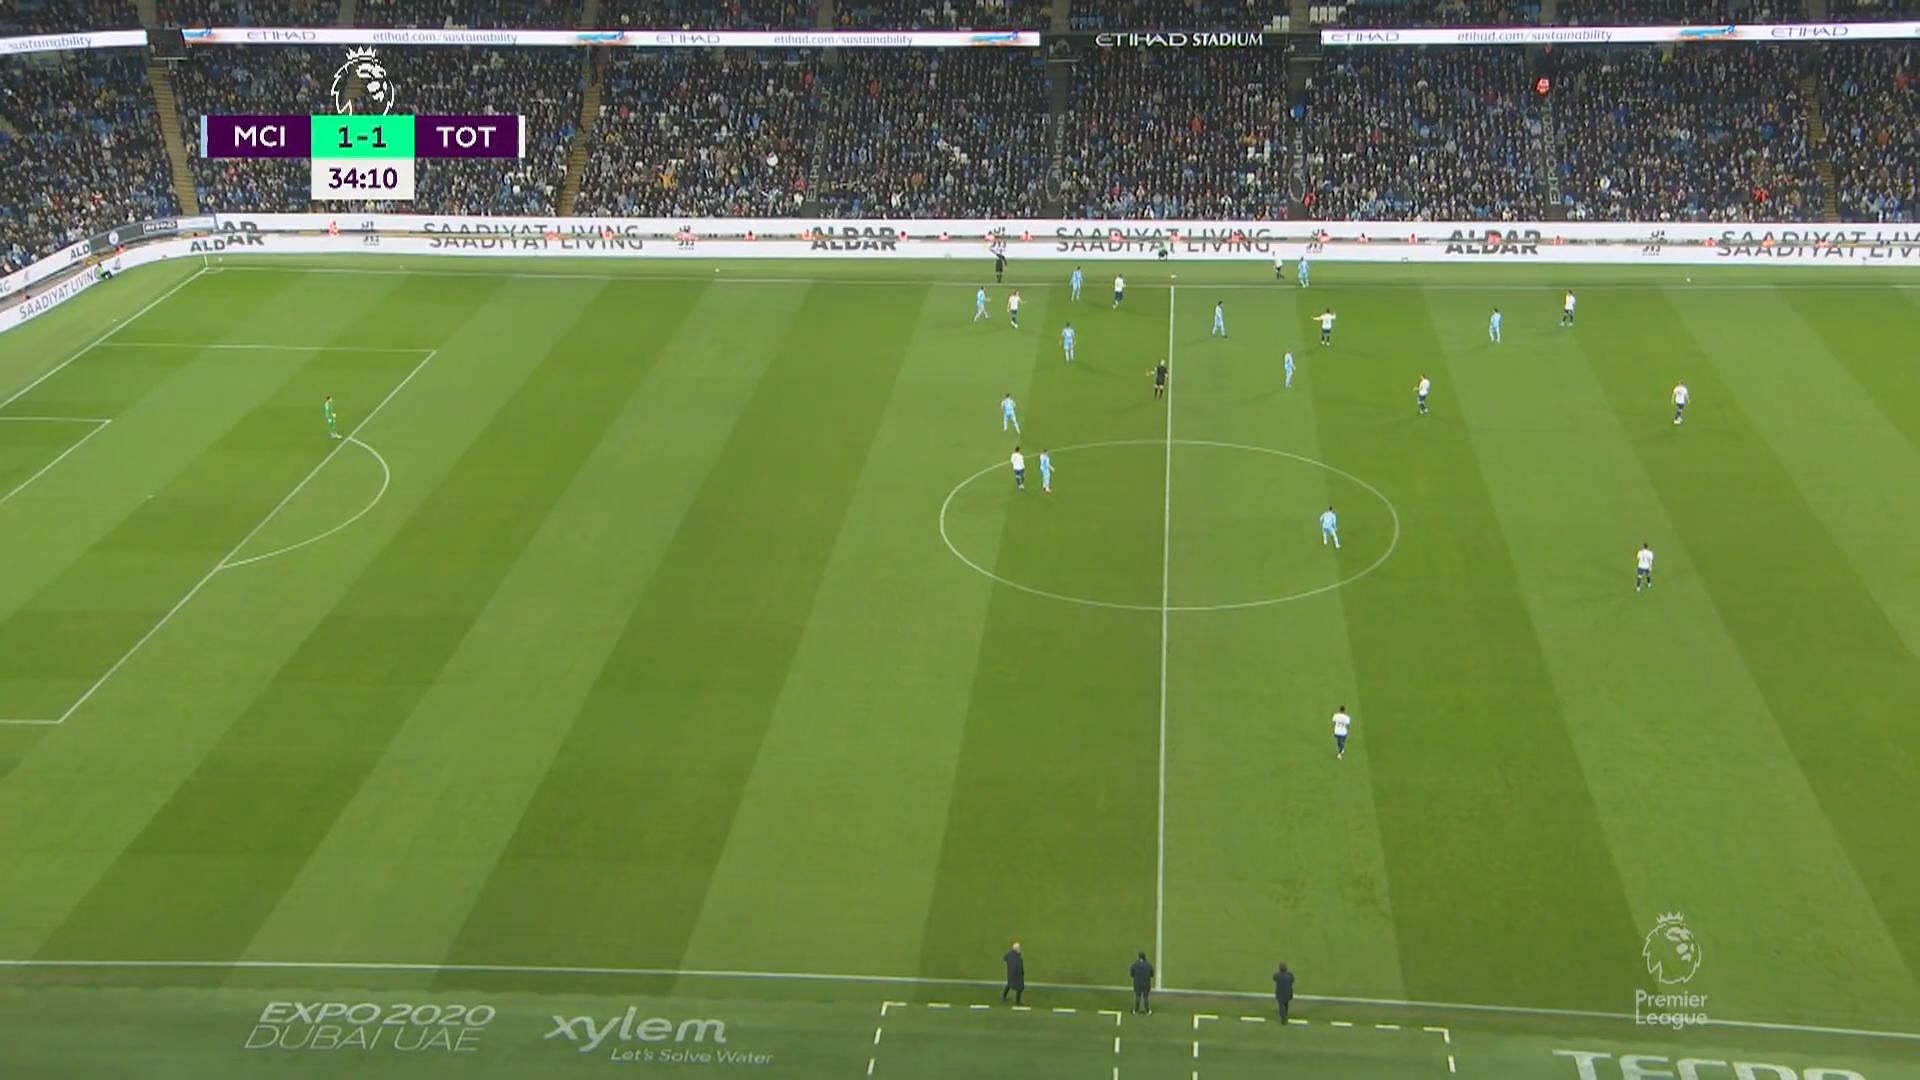goalkeeper: (322, 394, 341, 440)
player: (1330, 704, 1350, 759), (1633, 541, 1654, 591), (1318, 505, 1340, 548), (1311, 307, 1335, 346), (999, 391, 1020, 434), (1670, 379, 1689, 425), (1037, 447, 1054, 493), (1008, 445, 1025, 490), (1412, 373, 1430, 415), (971, 284, 989, 322), (1059, 322, 1076, 362), (1559, 288, 1576, 327), (1210, 299, 1227, 337), (1006, 288, 1022, 328), (1294, 255, 1310, 290), (1112, 272, 1126, 311), (1487, 307, 1502, 343), (1282, 349, 1295, 388), (1270, 251, 1286, 281), (1070, 266, 1083, 302)
referee: (1147, 358, 1168, 398), (989, 245, 1008, 283)
staff: (1129, 950, 1154, 1015), (1000, 940, 1025, 1004), (1272, 960, 1295, 1023)
